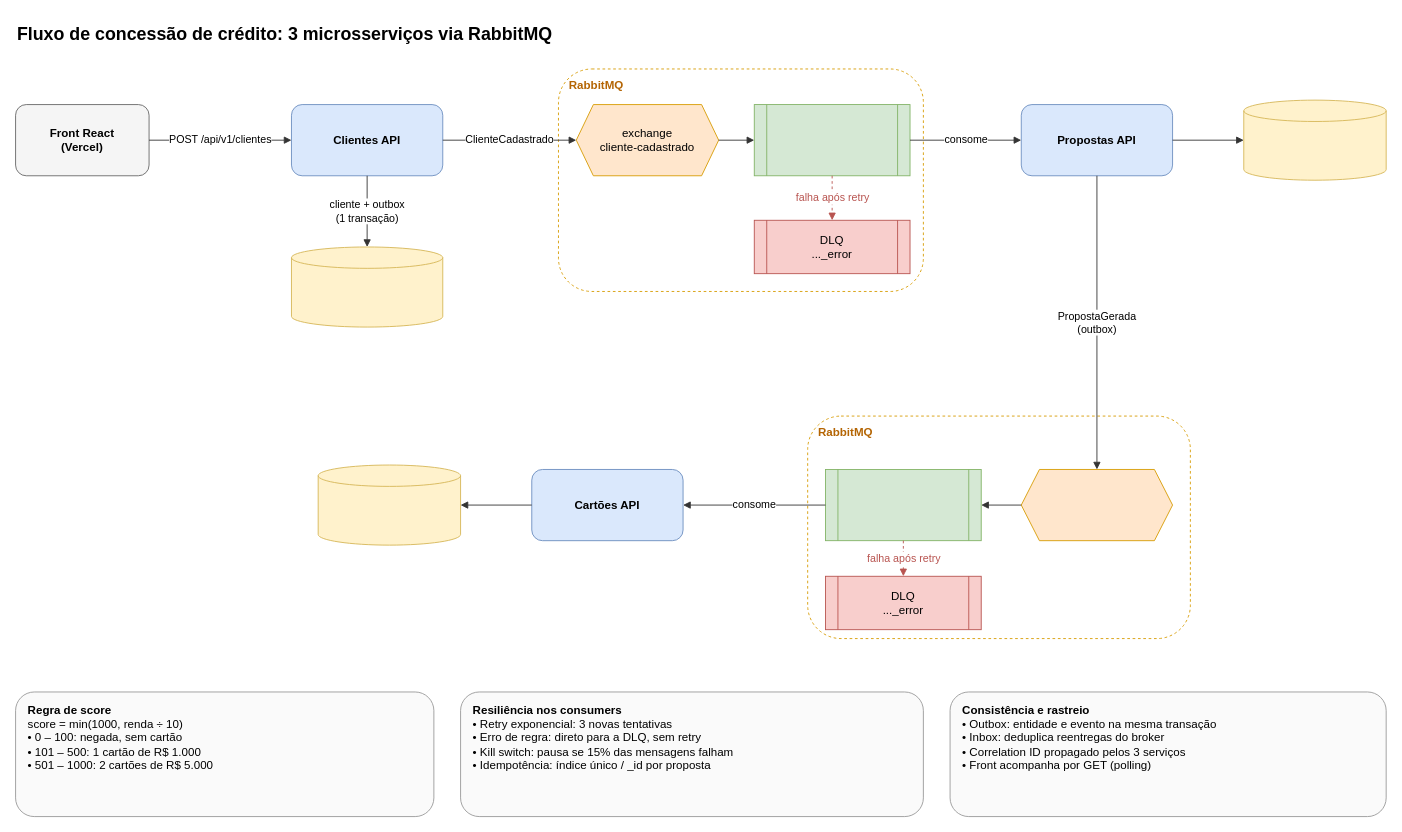
Image size: 1402x832. Some labels were removed from this diagram. Each missing label, with the centre of its shape:
exchange proposta-gerada: pixel 1096 505
fila cartao-proposta- gerada: pixel 903 505
fila proposta-cliente- cadastrado: pixel 831 140
MongoDB cartoes_db: pixel 389 504
SQL Server clientes_db: pixel 367 286
SQL Server propostas_db: pixel 1314 139
